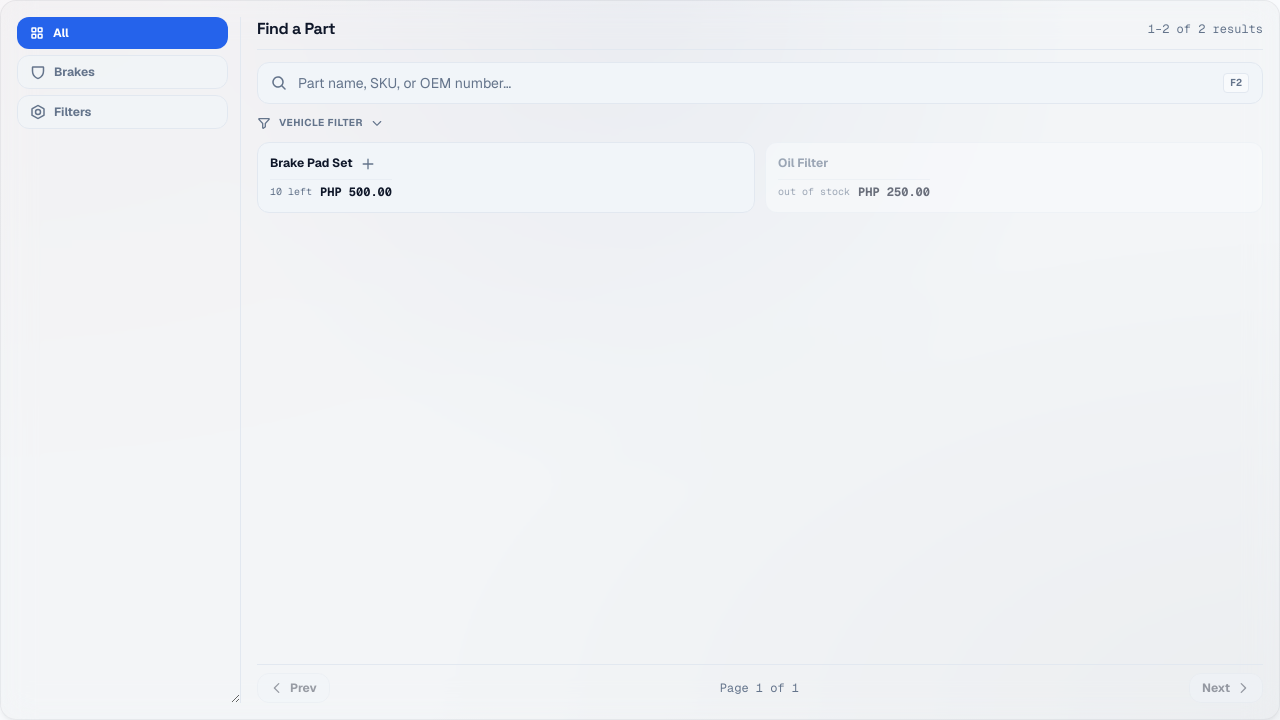
PosCatalogPanel › filters by SKU
The width and height of the screenshot is (1280, 720).
Type "OF-200" into the field named "search parts" at (760, 83), box [257,62,1263,104]
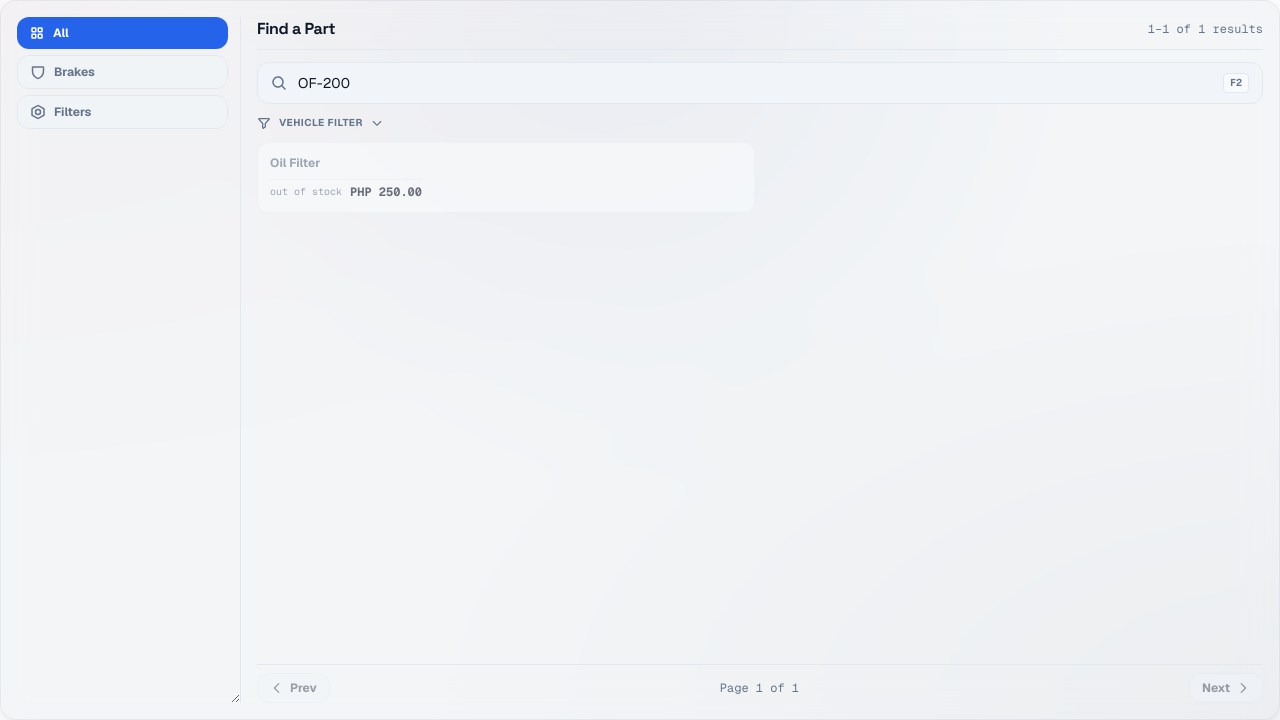
Expected: the text "Oil Filter" is shown, [270,155,320,171]
Now the button "Brake Pad Set" is gone
